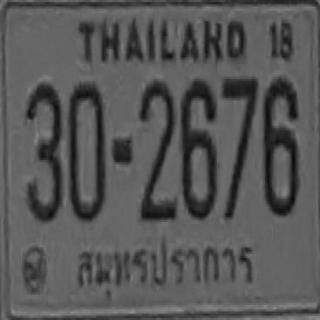N00: (68, 81, 105, 220)
N02: (138, 79, 175, 220)
N03: (25, 82, 62, 221)
N06: (180, 78, 216, 217), (262, 76, 298, 214)
N07: (221, 75, 257, 218), (221, 76, 257, 187)
P57: (72, 236, 260, 295)
